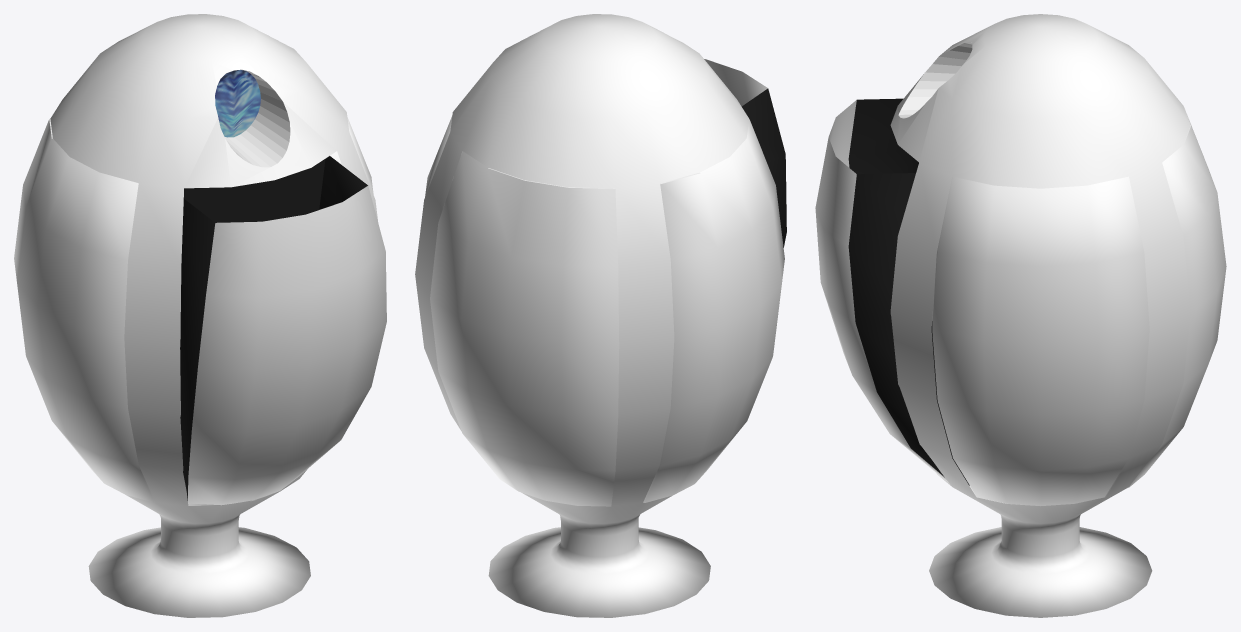
Rendered from IN_Troduction_Poubelle.FBX.
3 renders of one model, left to right at view 1: azimuth 30°, elevation 25°; view 2: azimuth 150°, elevation 25°; view 3: azimuth 270°, elevation 25°, orthographic.
Visible parts, largest first — view 1: Object001, Sphere001; view 2: Object001, Sphere001; view 3: Object001, Sphere001.
Boxes of the visible parts, x1=… form: Object001: x1=14, y1=117, x2=386, y2=505; Sphere001: x1=50, y1=14, x2=377, y2=617; Object001: x1=425, y1=59, x2=786, y2=506; Sphere001: x1=415, y1=14, x2=748, y2=617; Object001: x1=815, y1=98, x2=1226, y2=505; Sphere001: x1=890, y1=14, x2=1190, y2=617.
Bounding box in the file's own units: 72.55 × 117 × 80.36.
